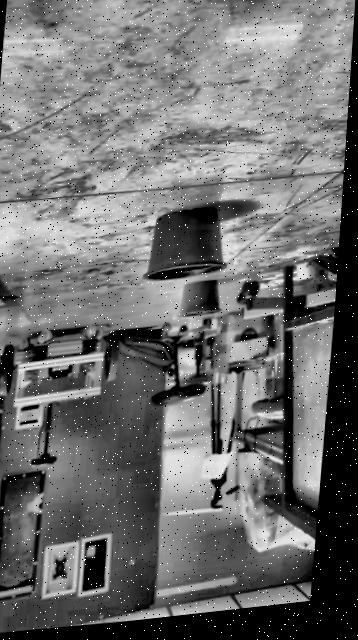pot: (143, 203, 230, 283), (176, 278, 223, 319)
